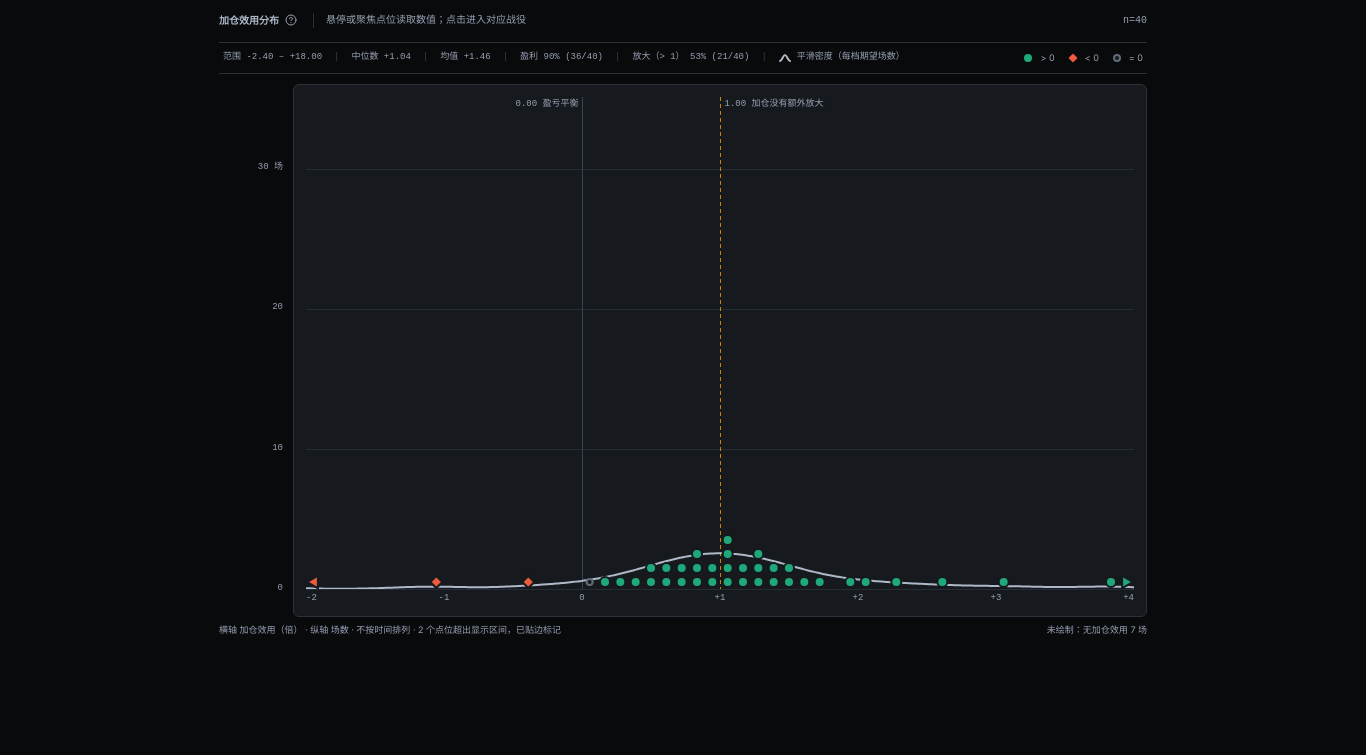
通用连续指标的分布图 › 加仓效用：1.00 参照线（琥珀虚线）与 0 线并存，两条线都是档边界，点位不跨线
The width and height of the screenshot is (1366, 755).
Later steps or results of the test are not shown.
Expected: the text "横轴 加仓效用（倍） · 纵轴 场数 · 不按时间排列 · 2 个点位超出显示区间，已贴边标记" is shown, [219,623,561,637]
Focus the button named "第 40 场，战役 39，加仓效用分布 +18.00 · 盈亏比 +27.00R，操作时间 2023-12-24 06:". click: (1126, 581)
box: [1119,574,1134,588]
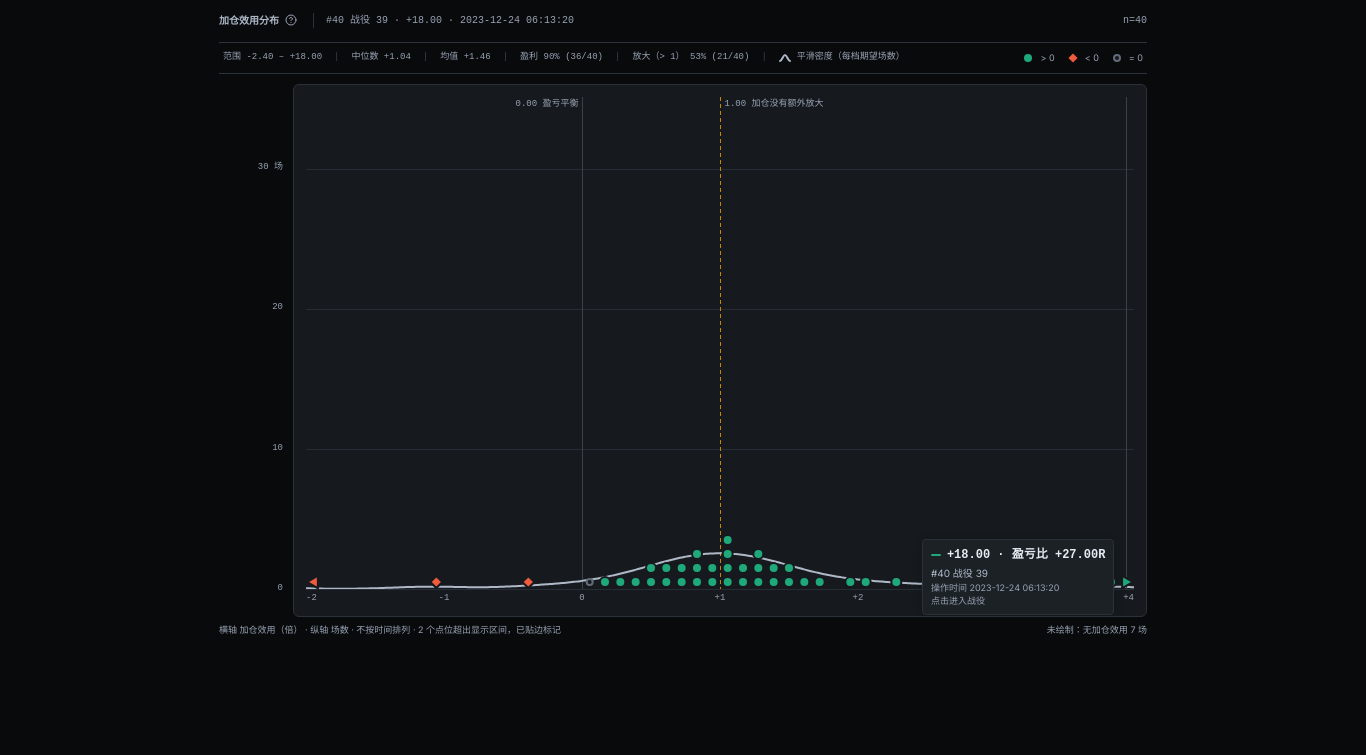
Now the element with test id "chart-tooltip" shows "+18.00 · 盈亏比 +27.00R", box [947,548,1105,562]
Click the button named "第 40 场，战役 39，加仓效用分布 +18.00 · 盈亏比 +27.00R，操作时间 2023-12-24 06:". click: click(1126, 581)
box: [1119,574,1134,588]
Expected: the element with test id "campaign-metric-summary-addEfficiencyDistribution" shows "范围 -2.40 – +18.00", [223,51,905,64]
Expected: the element with test id "campaign-metric-summary-addEfficiencyDistribution" shows "中位数", [351,52,384,62]
Click the button with test id "campaign-metric-guide-toggle-addEfficiencyDistribution". click: click(291, 20)
box: [281,10,301,30]
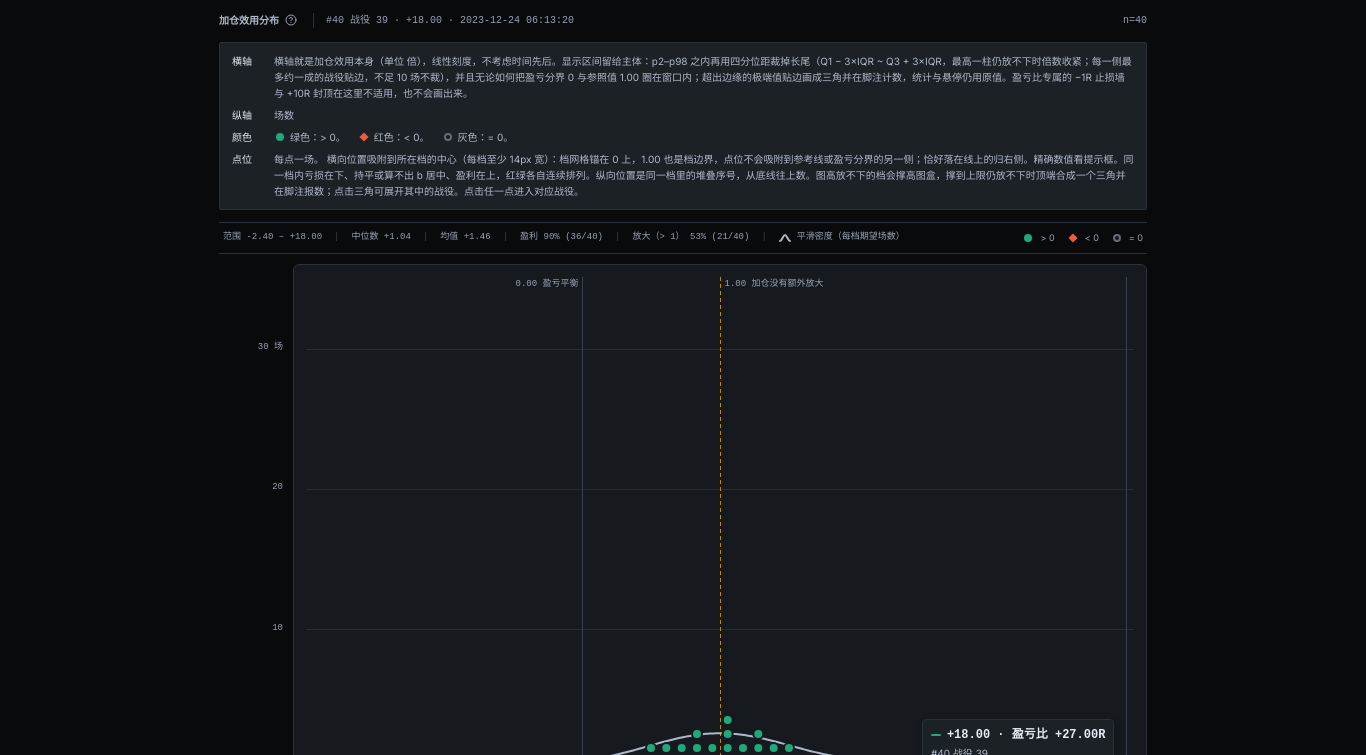
Now the element with test id "campaign-metric-guide-addEfficiencyDistribution" shows "横轴就是加仓效用本身（单位 倍）", box [219,42,1147,210]
Now the element with test id "campaign-metric-guide-addEfficiencyDistribution" shows "把盈亏分界 0 与参照值 1.00 圈在窗口内", box [219,42,1147,210]
Now the element with test id "campaign-metric-guide-addEfficiencyDistribution" shows "1.00 也是档边界，点位不会吸附到参考线或盈亏分界的另一侧；恰好落在线上的归右侧", box [549,153,1123,165]
